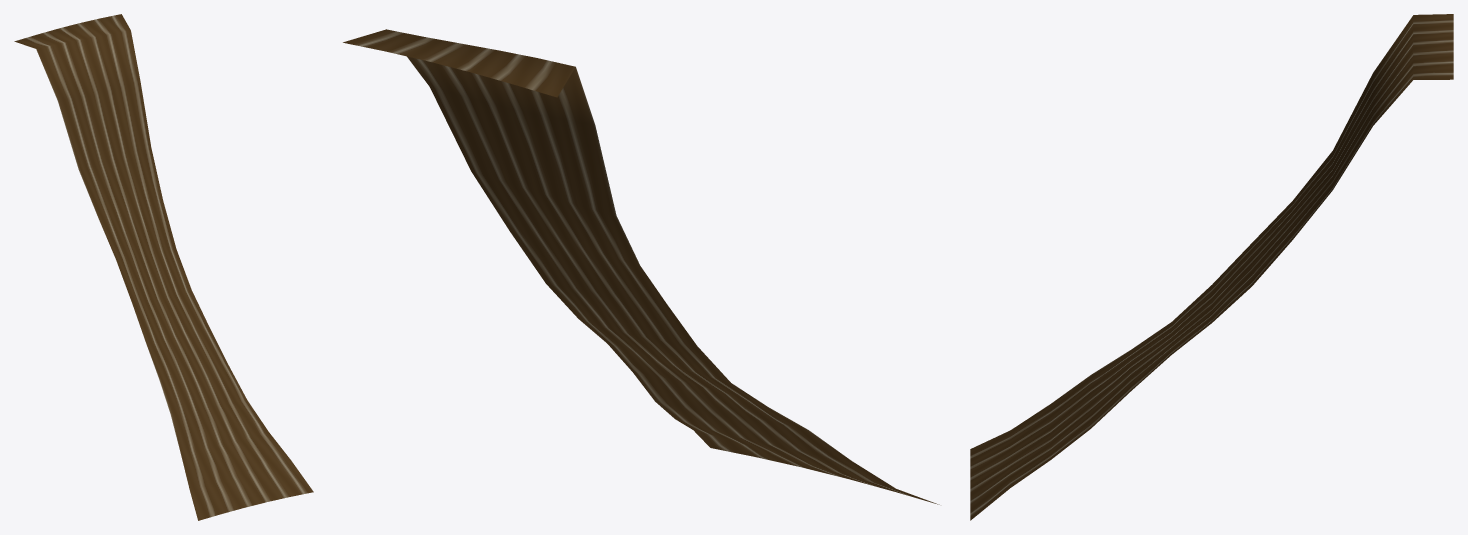
Rendered from cascade-hukou-lod1.glb.
3 renders of one model, left to right at view 1: azimuth 30°, elevation 25°; view 2: azimuth 150°, elevation 25°; view 3: azimuth 270°, elevation 25°, orthographic. The views are drawn at different scales.
Bounding box in the file's own units: 0.355 × 1.01 × 1.
Materials: 1 (1 with a texture image).
